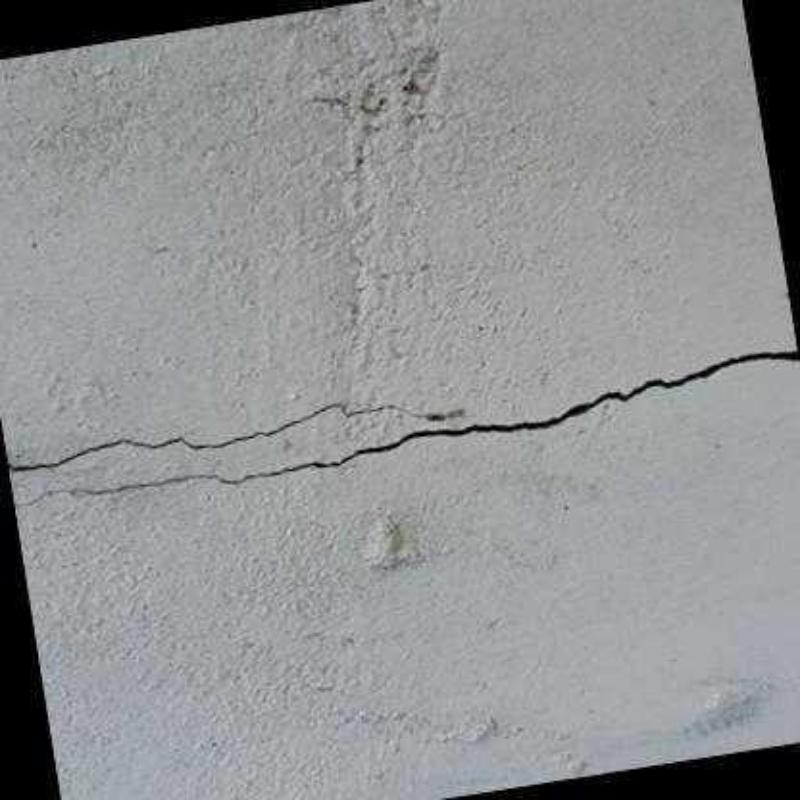pothole: (18, 348, 798, 510), (6, 401, 470, 472)
